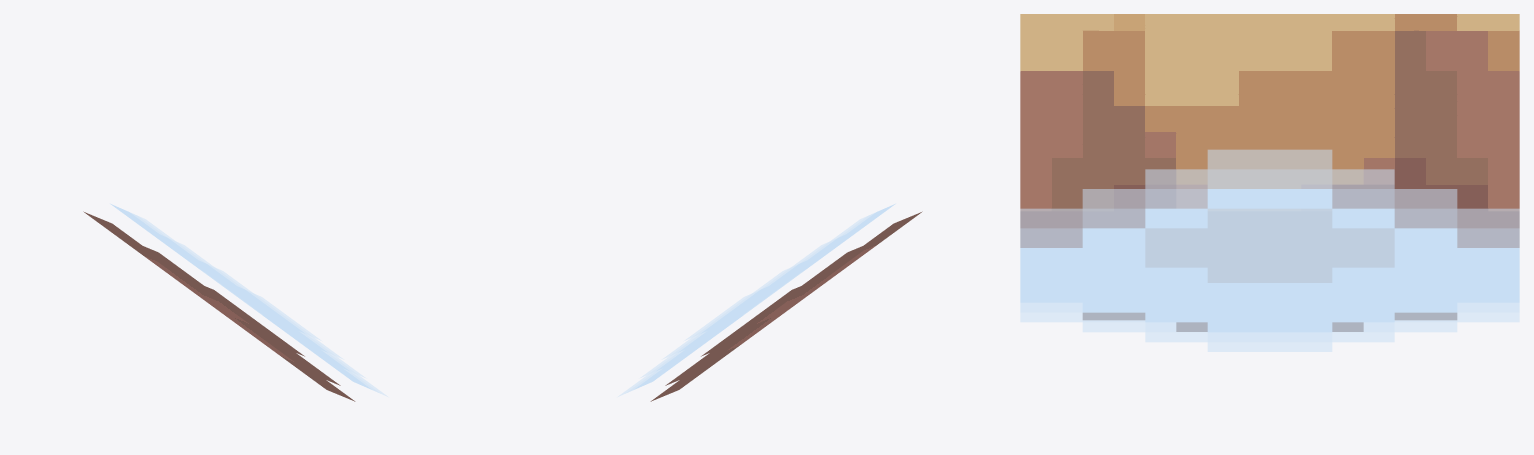
3 views of the same model, side by side, from view 1: azimuth 30°, elevation 25°; view 2: azimuth 150°, elevation 25°; view 3: azimuth 270°, elevation 25° (orthographic). The views are drawn at different scales.
Bounding box in the file's own units: 0.5459 × 0.6892 × 1.
2 materials, 2 textured.
